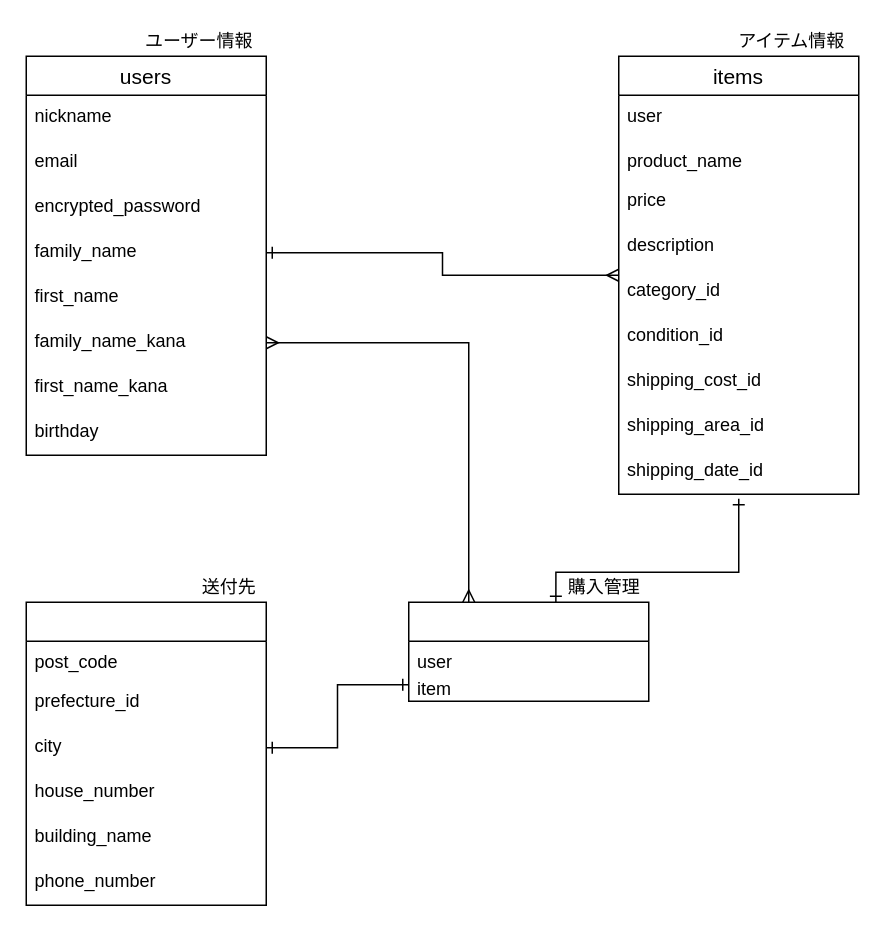
The diagram is 885 pixels wide and 935 high, and some of its shapes have lost their labels. Each missing label, with the box of its shape:
destinations: (25, 601, 266, 905)
orders: (407, 601, 649, 701)
